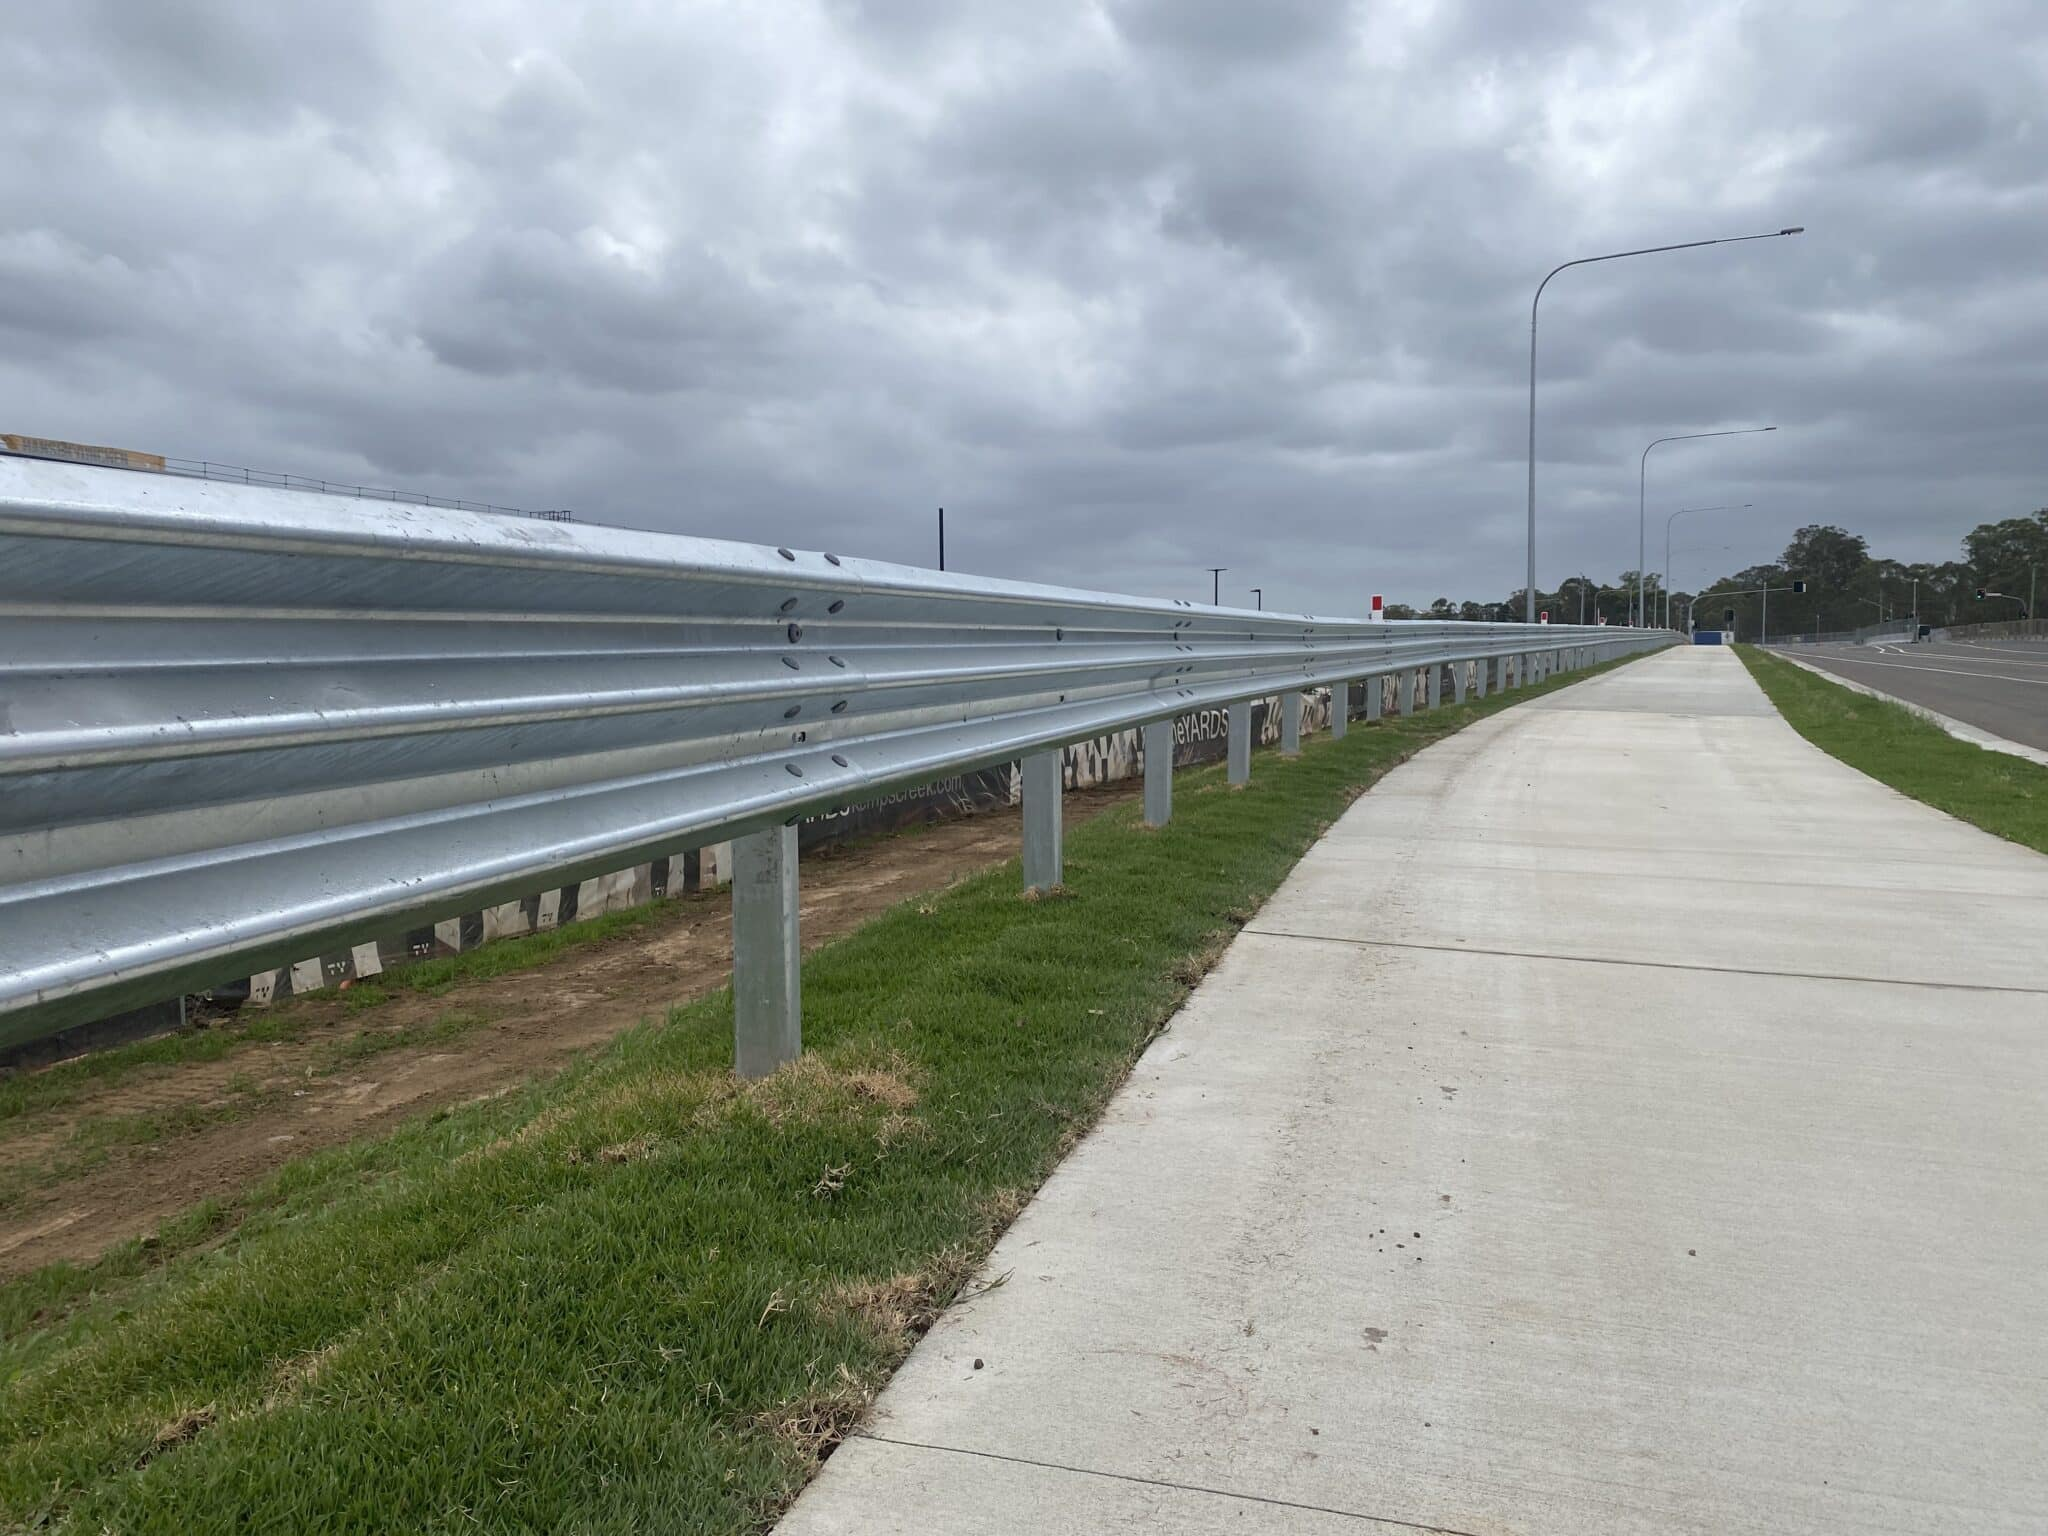not_damaged: (19, 437, 1558, 878)
